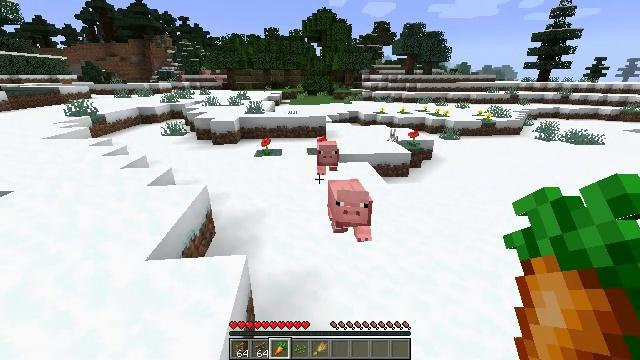pig: (327, 178, 372, 241), (317, 140, 339, 172)
